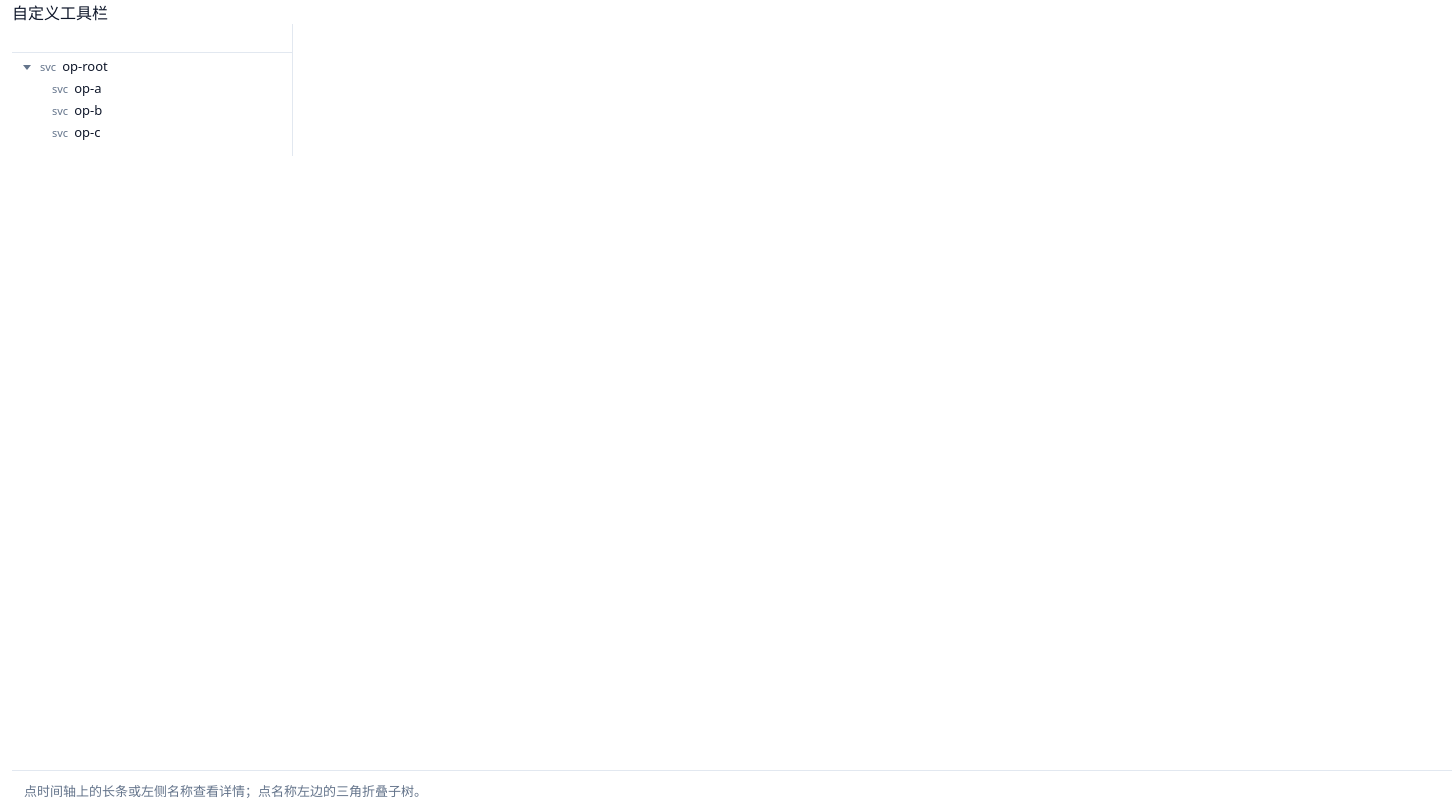
Test: 扩展点 › renderToolbar / renderSpanDetail 覆盖默认内容
The width and height of the screenshot is (1452, 810).
Expected: the text "自定义工具栏" is shown, [12,5,108,22]
Click the element titled "svc · op-" at (64, 66), box [20,57,108,75]
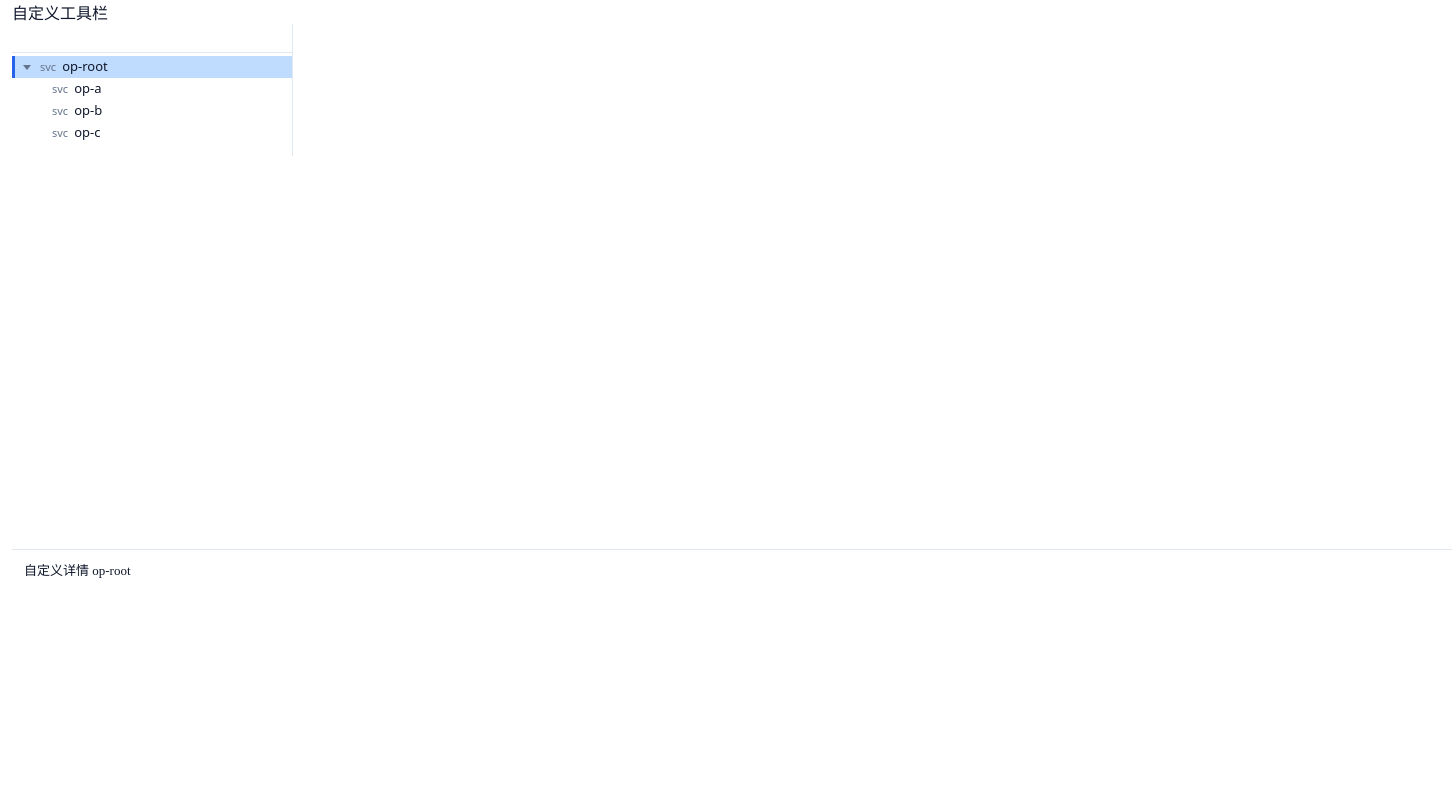
Expected: the text "自定义详情 op-root" is shown, [24,563,130,578]
